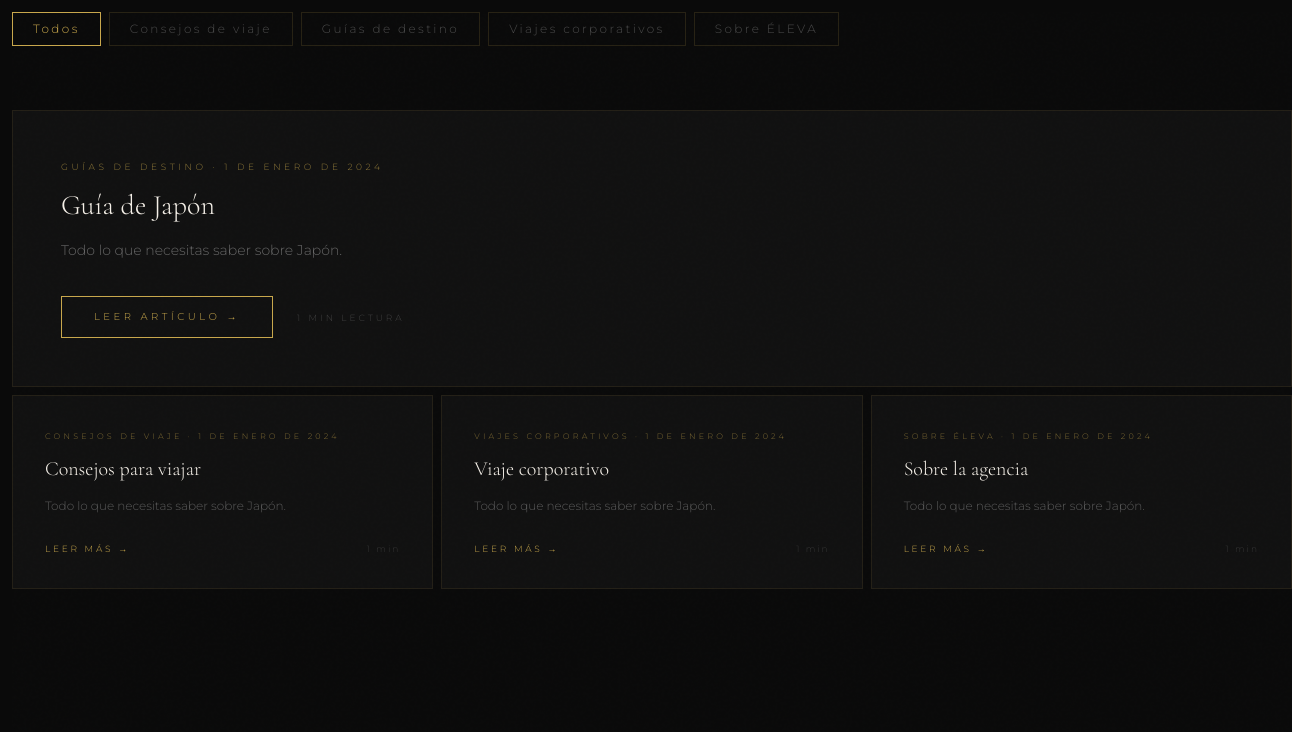
Test case: BlogFilterGrid — filtrado por categoría › filtra correctamente categoría con un solo post
Click the list item "Sobre ÉLEVA".
click(766, 29)  # box [694, 12, 839, 46]
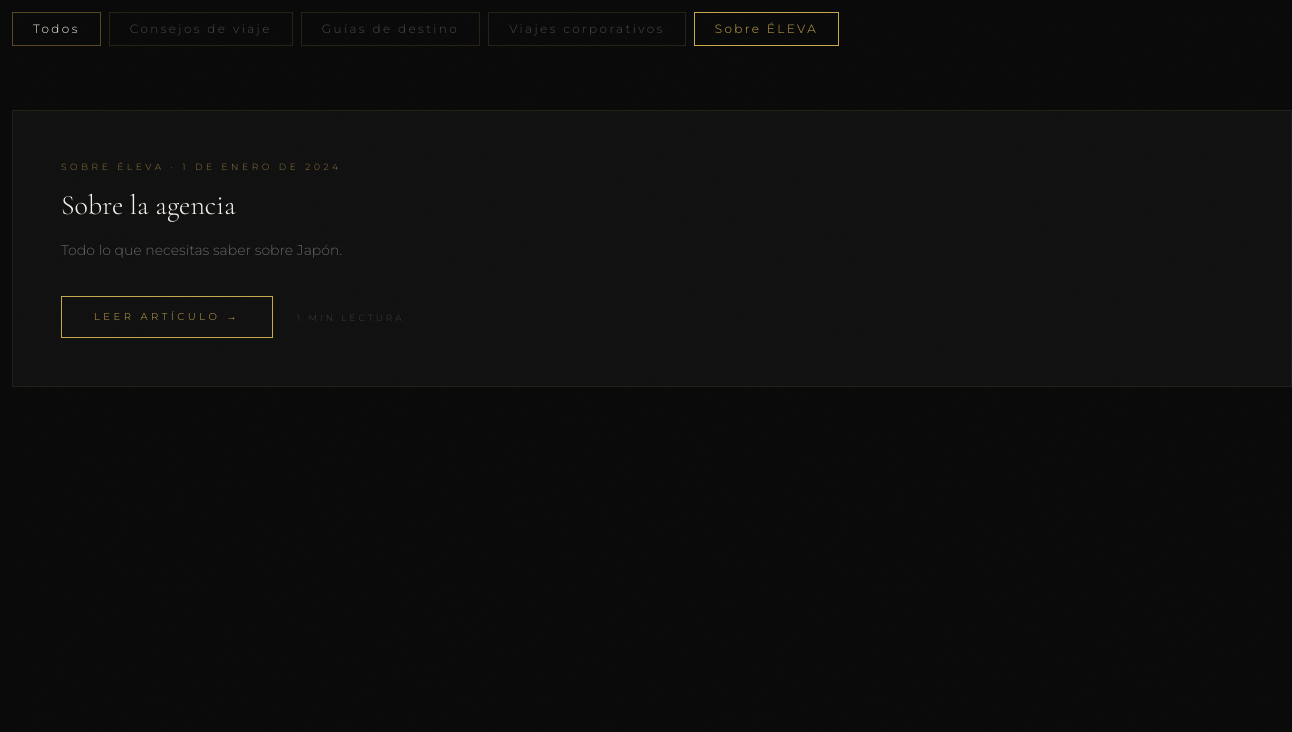
Now the heading "Sobre la agencia" is shown, box [61, 188, 236, 222]
Now the heading "Guía de Japón" is gone
